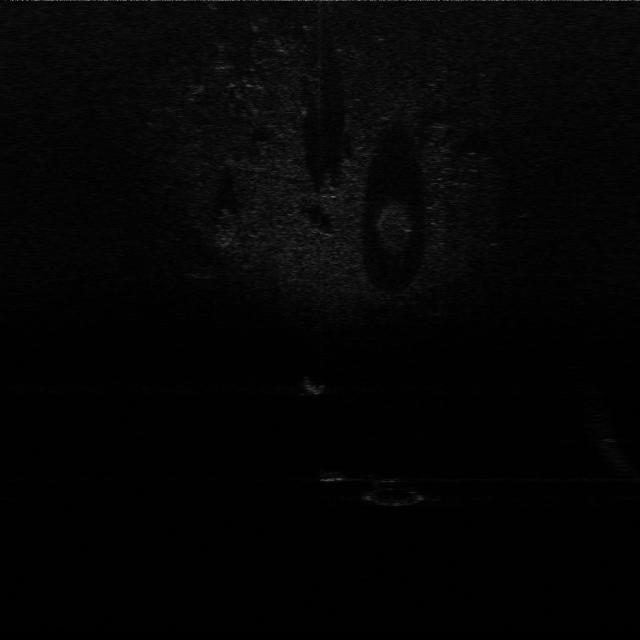cube: (308, 461, 361, 488)
square cage: (296, 369, 338, 396)
tyre: (370, 474, 430, 513)
